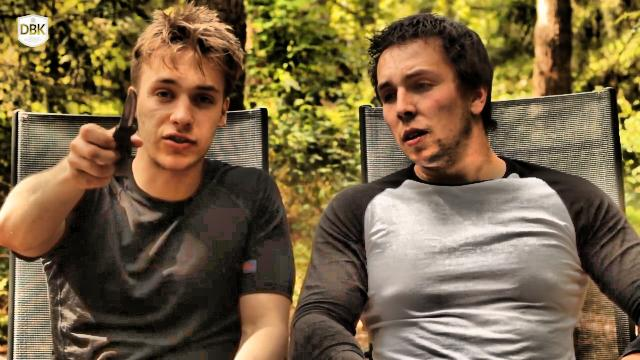knife: (98, 84, 138, 164)
